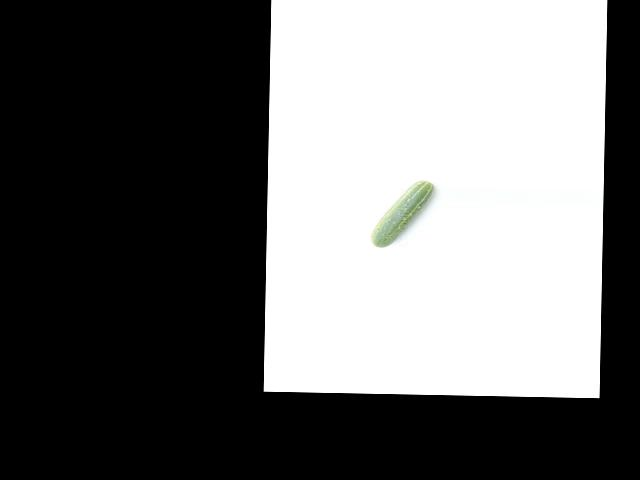cucumber: (370, 178, 434, 248)
